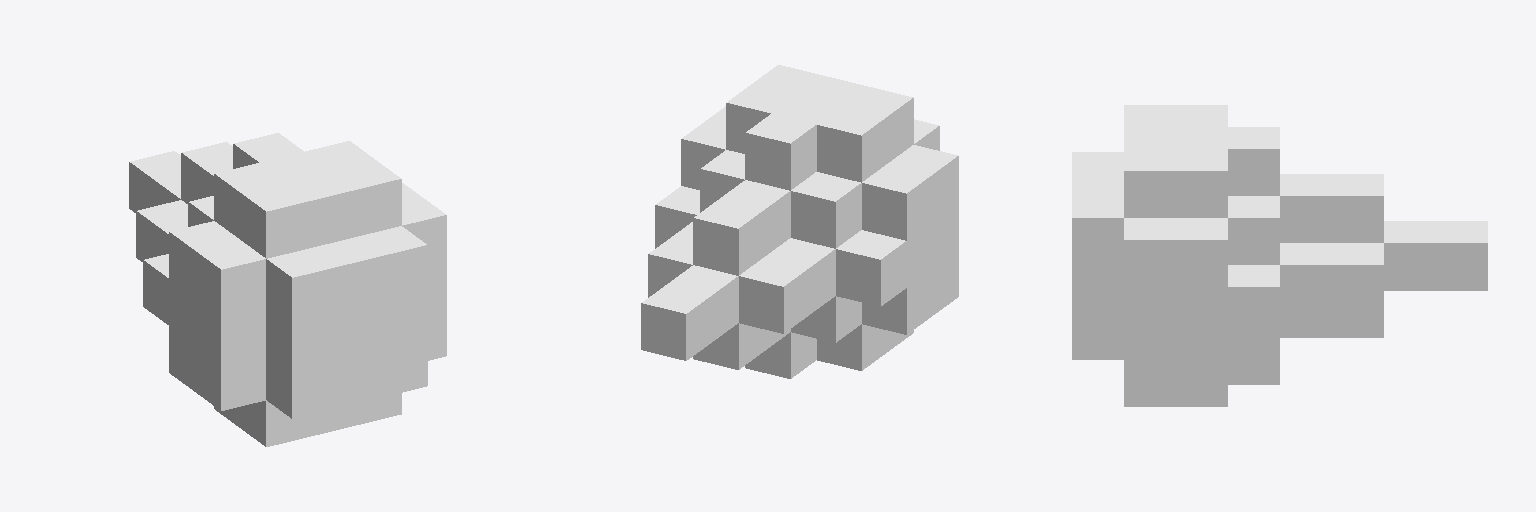
File: fireball.obj
The picture shows the model from 3 angles: view 1: azimuth 30°, elevation 25°; view 2: azimuth 150°, elevation 25°; view 3: azimuth 270°, elevation 25°; orthographic projection.
Size of the model in its own units: 5 by 5 by 8.